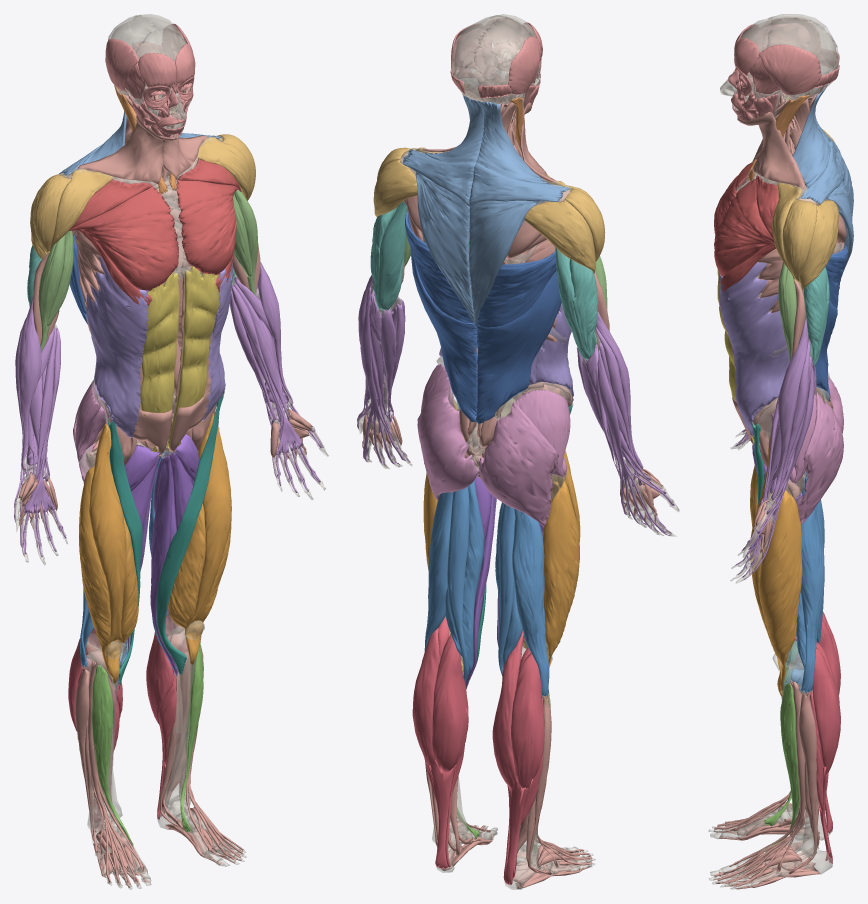
The model's file is muscular.glb.
3 renders of one model, left to right at view 1: azimuth 30°, elevation 25°; view 2: azimuth 150°, elevation 25°; view 3: azimuth 270°, elevation 25°, orthographic. The views are drawn at different scales.
Visible parts, largest first — view 1: otros-musculos, cuadriceps, esqueleto, pectoral-mayor, antebrazo, oblicuos, recto-abdominal, cabeza, aductores, deltoides, sartorio, triceps-sural (+5 smaller); view 2: trapecio, triceps-sural, dorsal-ancho, isquiotibiales, gluteos, otros-musculos, esqueleto, antebrazo, deltoides, triceps-braquial, cuadriceps, cabeza (+2 smaller); view 3: otros-musculos, esqueleto, cabeza, oblicuos, cuadriceps, antebrazo, pectoral-mayor, deltoides, triceps-sural, isquiotibiales, gluteos, trapecio (+7 smaller).
Part boxes in pixels (x1=…): otros-musculos: x1=18, y1=83, x2=312, y2=887; cuadriceps: x1=79, y1=412, x2=231, y2=683; esqueleto: x1=15, y1=14, x2=328, y2=889; pectoral-mayor: x1=69, y1=158, x2=241, y2=305; antebrazo: x1=14, y1=262, x2=323, y2=556; oblicuos: x1=85, y1=256, x2=232, y2=437; recto-abdominal: x1=140, y1=266, x2=219, y2=451; cabeza: x1=105, y1=23, x2=195, y2=137; aductores: x1=119, y1=434, x2=199, y2=689; deltoides: x1=30, y1=134, x2=255, y2=259; sartorio: x1=107, y1=394, x2=223, y2=689; triceps-sural: x1=68, y1=614, x2=187, y2=832; trapecio: x1=402, y1=95, x2=569, y2=327; triceps-sural: x1=412, y1=616, x2=544, y2=884; dorsal-ancho: x1=405, y1=212, x2=561, y2=423; isquiotibiales: x1=424, y1=480, x2=549, y2=696; gluteos: x1=417, y1=364, x2=570, y2=526; otros-musculos: x1=362, y1=49, x2=663, y2=888; esqueleto: x1=358, y1=14, x2=679, y2=889; antebrazo: x1=357, y1=275, x2=674, y2=536; deltoides: x1=373, y1=147, x2=605, y2=273; triceps-braquial: x1=370, y1=201, x2=598, y2=361; cuadriceps: x1=423, y1=400, x2=580, y2=672; cabeza: x1=450, y1=18, x2=542, y2=108; otros-musculos: x1=713, y1=73, x2=846, y2=889; esqueleto: x1=708, y1=14, x2=844, y2=889; cabeza: x1=728, y1=17, x2=839, y2=121; oblicuos: x1=719, y1=262, x2=789, y2=436; cuadriceps: x1=750, y1=437, x2=802, y2=696; antebrazo: x1=735, y1=317, x2=816, y2=580; pectoral-mayor: x1=714, y1=162, x2=778, y2=291; deltoides: x1=771, y1=129, x2=839, y2=290; triceps-sural: x1=795, y1=612, x2=840, y2=863; isquiotibiales: x1=790, y1=472, x2=824, y2=693; gluteos: x1=771, y1=375, x2=843, y2=524; trapecio: x1=792, y1=84, x2=853, y2=276.
Bounding box in the file's own units: 0.6688 × 1.7 × 0.2671.
